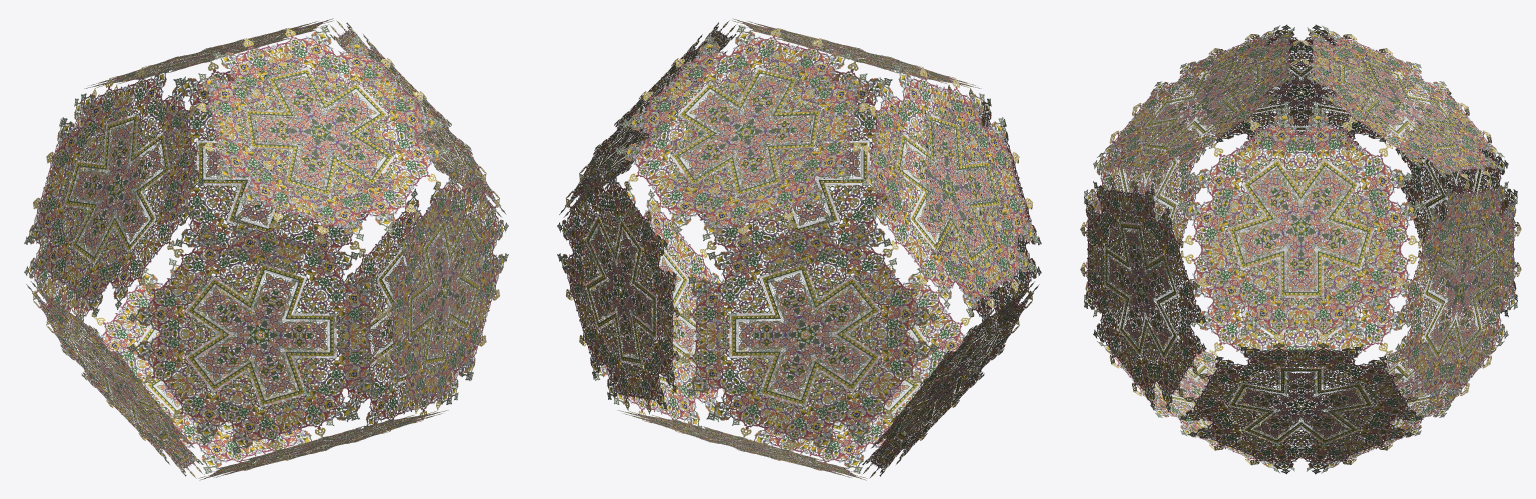
The model's file is Dodecahedron2.obj.
The picture shows the model from 3 angles, left to right: view 1: azimuth 30°, elevation 25°; view 2: azimuth 150°, elevation 25°; view 3: azimuth 270°, elevation 25°; orthographic projection. The views are drawn at different scales.
Bounding box in the file's own units: 2.62 × 2.62 × 2.62.
1 material, 1 textured.
